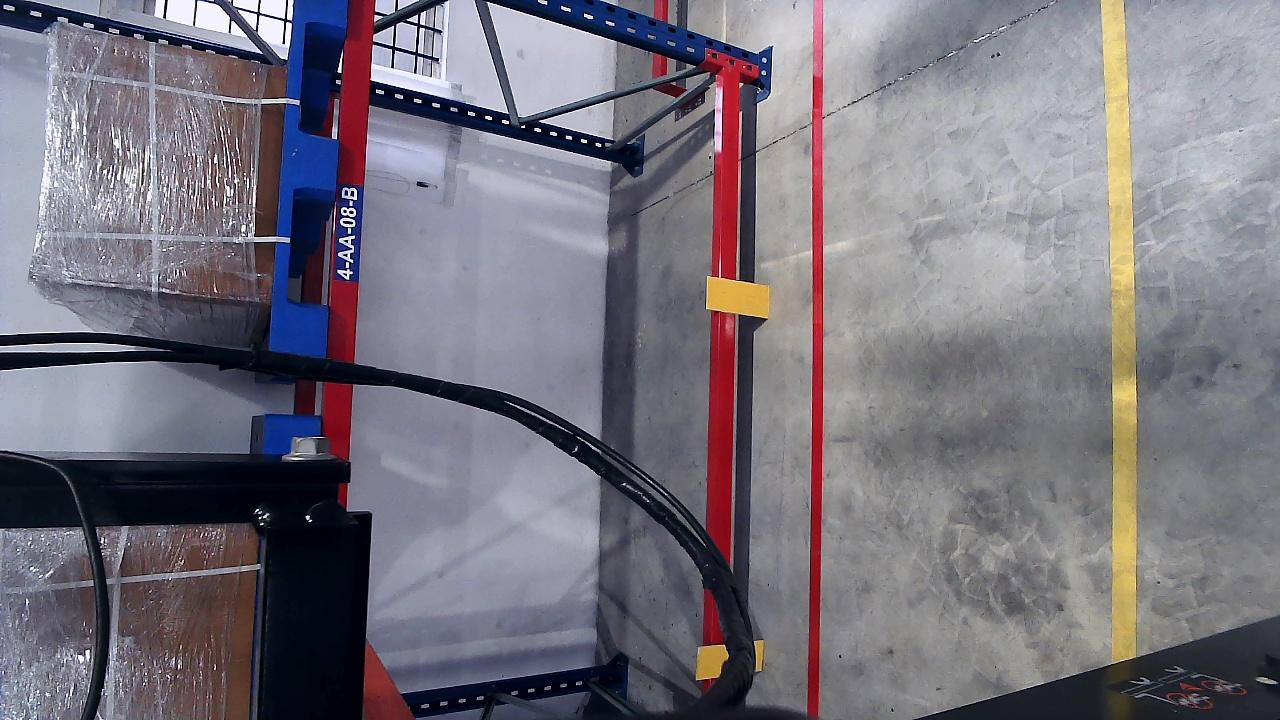h_rack: (324, 0, 380, 436), (711, 72, 746, 692)
orange_strip: (705, 277, 770, 318), (695, 643, 728, 679)
red_line: (808, 42, 827, 712)
small_pallet: (267, 0, 349, 358)
yellow_line: (1100, 0, 1141, 657)
